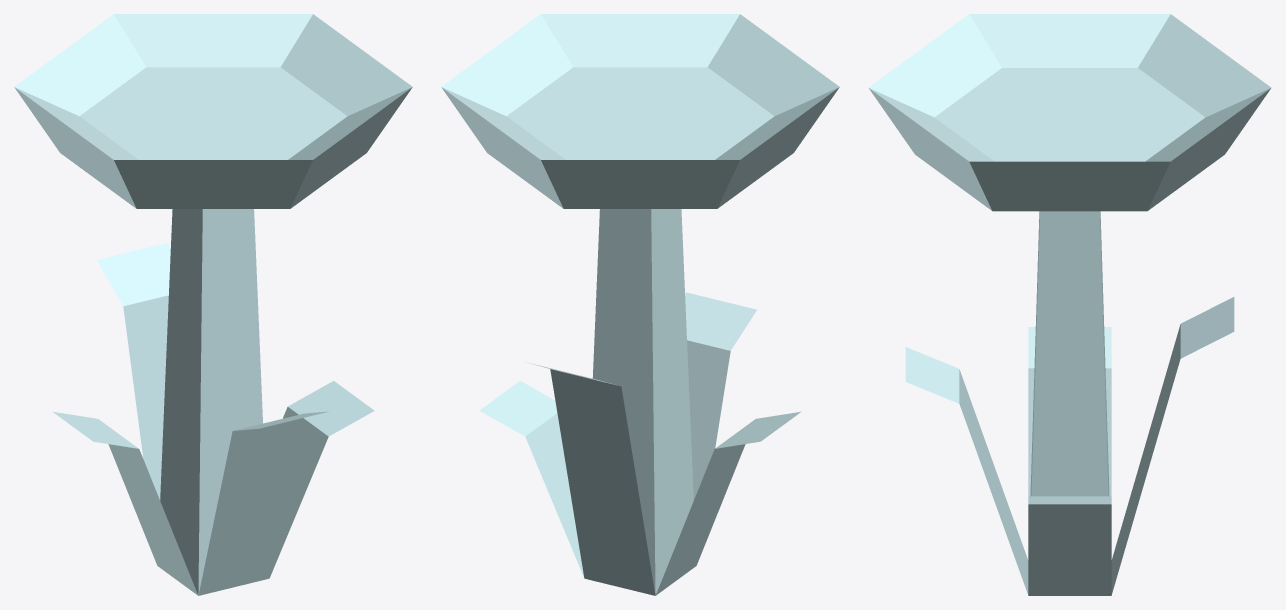
The model's file is flower_blue3.fbx.
3 views of the same model, side by side, from view 1: azimuth 30°, elevation 25°; view 2: azimuth 150°, elevation 25°; view 3: azimuth 270°, elevation 25° (orthographic).
Parts seen in each view (by area): view 1: flower_blue3; view 2: flower_blue3; view 3: flower_blue3.
Part boxes in pixels (x1,y1,x2,y2): flower_blue3: (14, 14, 412, 595); flower_blue3: (441, 14, 839, 595); flower_blue3: (868, 14, 1271, 595).
Bounding box in the file's own units: 39.31 × 60.95 × 45.39.
